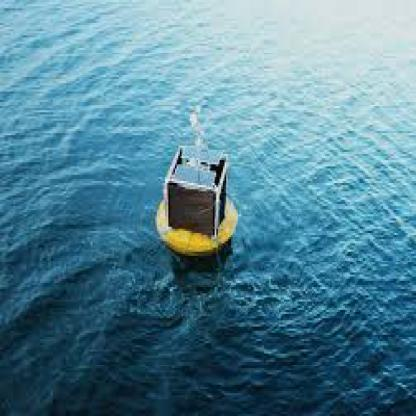buoy: (148, 94, 247, 270)
